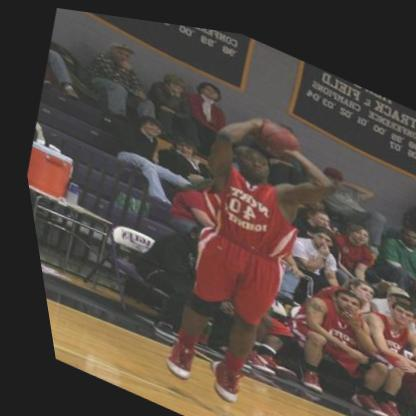basketball: (246, 107, 304, 155)
